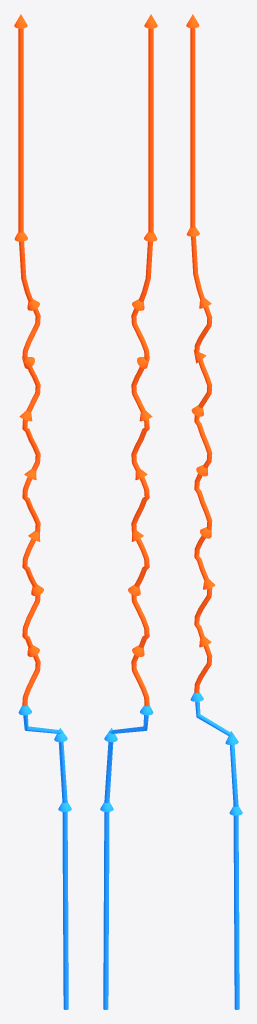
The model's file is submersible_borewell_pump_flow.glb.
3 views of the same model, side by side, from view 1: azimuth 30°, elevation 25°; view 2: azimuth 150°, elevation 25°; view 3: azimuth 330°, elevation 25° (orthographic). The views are drawn at different scales.
Parts seen in each view (by area): view 1: flow_discharge, flow_in; view 2: flow_discharge, flow_in; view 3: flow_discharge, flow_in.
Part boxes in pixels (bbox=[...]): flow_discharge: bbox=[14, 14, 43, 706]; flow_in: bbox=[18, 705, 71, 1009]; flow_discharge: bbox=[128, 14, 157, 706]; flow_in: bbox=[100, 705, 153, 1009]; flow_discharge: bbox=[186, 14, 215, 692]; flow_in: bbox=[190, 692, 242, 1009].
Size of the model in its own units: 0.0989 by 1.7 by 0.0208.
